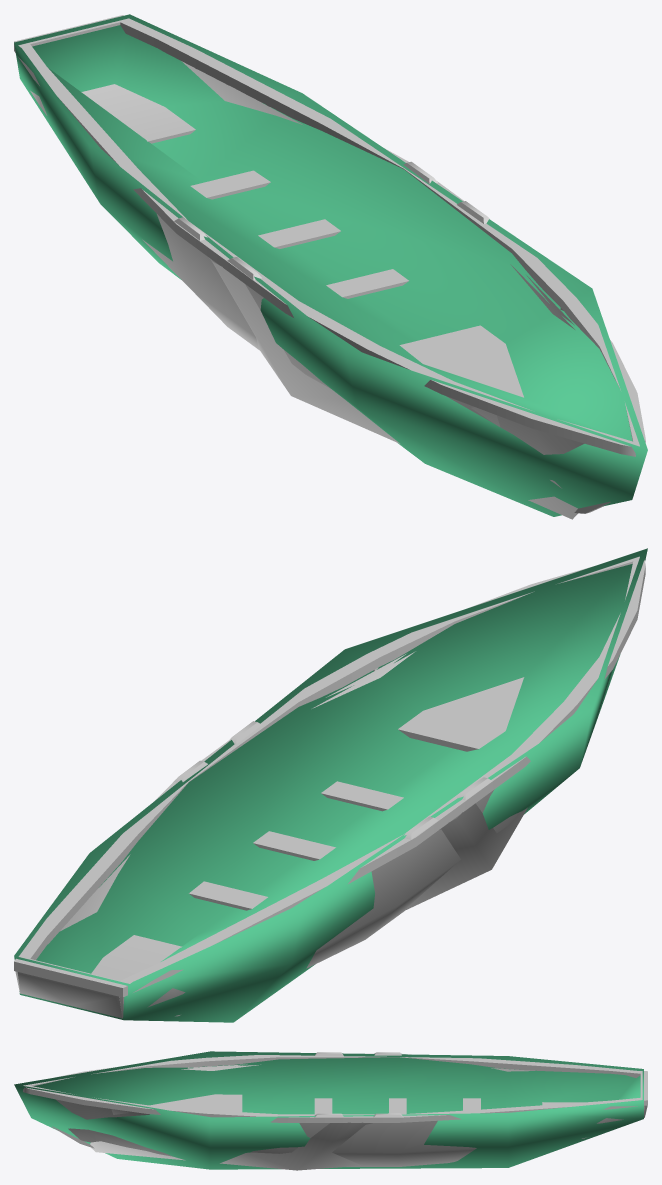
Rendered from littleboat_01_a.dae.
3 renders of one model, top to bottom at view 1: azimuth 30°, elevation 25°; view 2: azimuth 150°, elevation 25°; view 3: azimuth 270°, elevation 25°, orthographic. The views are drawn at different scales.
Visible parts, largest first — view 1: Colmesh-1, ind_bld_a500, ind_bld_a40; view 2: Colmesh-1, ind_bld_a500, ind_bld_a40; view 3: Colmesh-1, ind_bld_a500, ind_bld_a40.
Part boxes in pixels (x1,y1,x2,y2): Colmesh-1: (14, 14, 647, 516); ind_bld_a500: (14, 15, 645, 513); ind_bld_a40: (16, 55, 577, 519); Colmesh-1: (14, 548, 647, 1022); ind_bld_a500: (14, 556, 645, 1018); ind_bld_a40: (15, 651, 527, 1018); Colmesh-1: (14, 1051, 643, 1169); ind_bld_a500: (23, 1052, 647, 1166); ind_bld_a40: (90, 1064, 647, 1170).
Bounding box in the file's own units: 1.52 × 6.16 × 0.8121.
